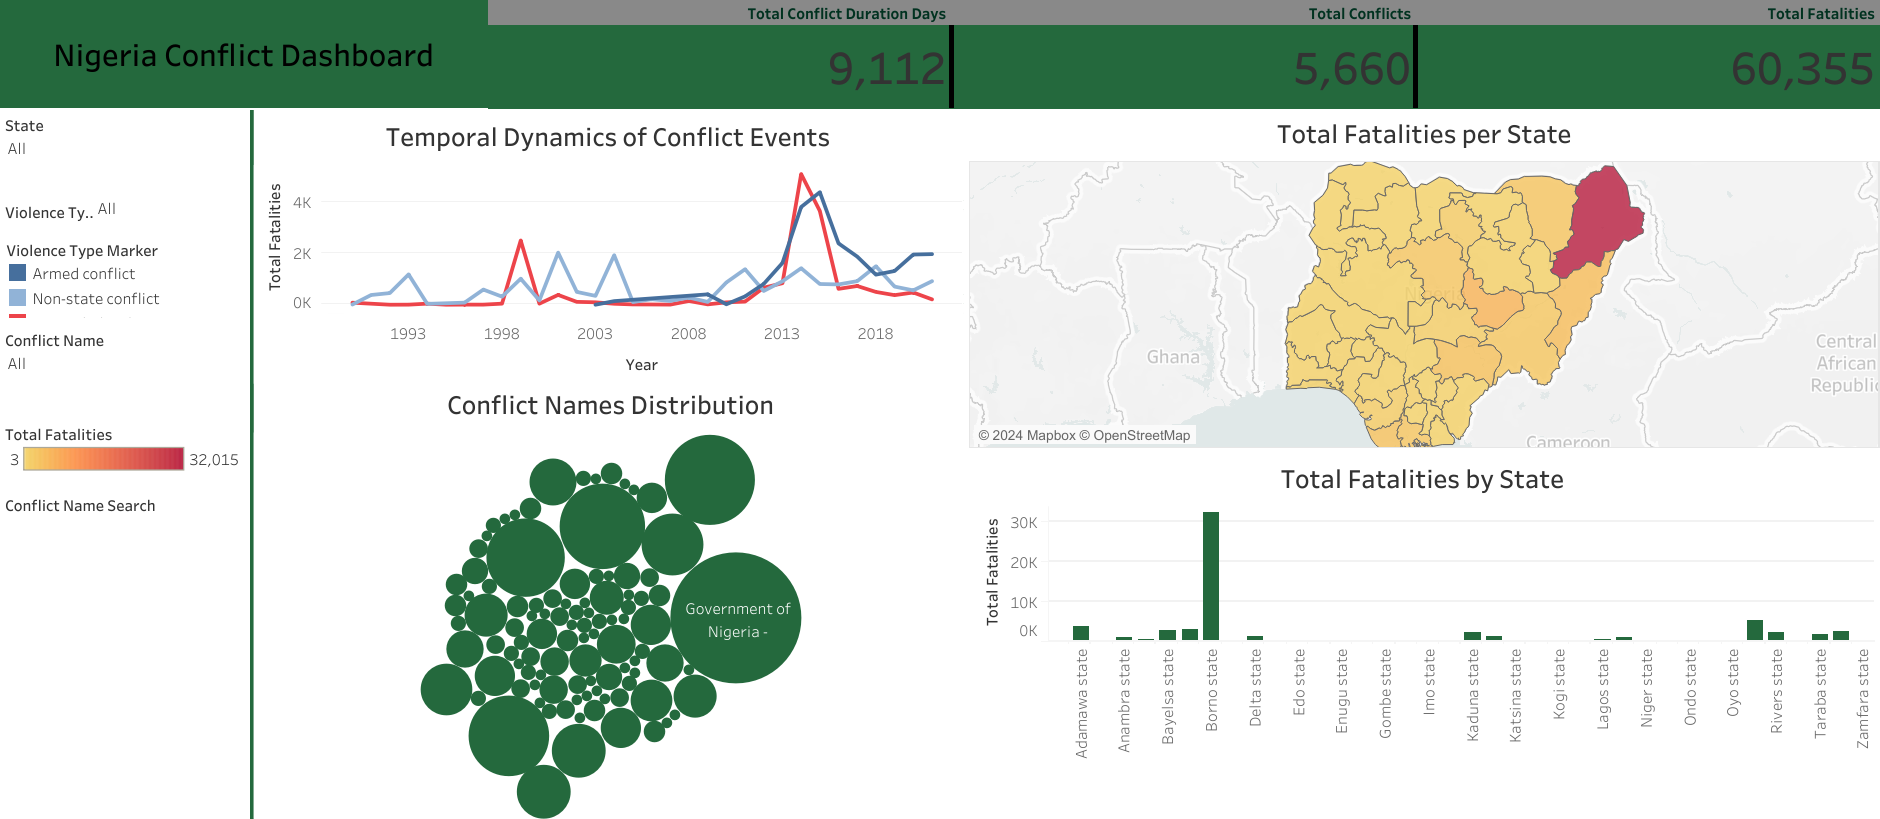

What the dashboard file says about the page in this screenshot:
{"tool":"tableau","page":{"name":"Dashboard 1","canvas":[1000,1000],"units":"permille","ordinal":0},"visuals":[{"type":"text","box":[0,0,258.9,130.6]},{"type":"worksheet","title":"Nationwide Numbers ","mark":"Automatic","box":[258.9,0,740.5,131.7]},{"type":"filter","title":"Map","param":"[federated.1lly02x1bn9fph1c5v9400rj8o3r].[none:state:nk]","box":[0,131.7,132.8,73.5]},{"type":"worksheet","title":"Map","mark":"Automatic","box":[514.8,131.7,484.6,416]},{"type":"blank","box":[132.8,133.9,2.4,869.4]},{"type":"worksheet","title":"Temporal ","mark":"Automatic","rows":["total_fatalities"],"cols":["date_start"],"box":[134.6,135,377.2,332.6]},{"type":"filter","title":"Temporal ","param":"[federated.0ykx1sy1ussmwv13j8j8316c5hea].[none:Calculation_275564063131279360:nk","box":[0,205.3,132.8,67]},{"type":"legend","title":"Temporal ","param":"[federated.0ykx1sy1ussmwv13j8j8316c5hea].[none:Calculation_275564063131279360:nk","box":[0,272.2,132.8,144.9]},{"type":"filter","title":"Temporal ","param":"[federated.0ykx1sy1ussmwv13j8j8316c5hea].[none:conflict_name:nk]","box":[0,417.1,132.8,82.3]},{"type":"worksheet","title":"Bubble Charts","mark":"Circle","box":[134.6,462.1,379.6,535.7]},{"type":"legend","title":"Map","param":"[federated.1lly02x1bn9fph1c5v9400rj8o3r].[sum:total_fatalities:qk]","box":[0,499.4,132.8,65.9]},{"type":"worksheet","title":"Fatalities by state ","mark":"Automatic","rows":["total_fatalities"],"cols":["state"],"box":[516,552.1,479.8,441.3]},{"type":"parameter","param":"[Parameters].[Parameter 1]","box":[0,565.3,132.8,80.1]}]}

Visuals, with their boxes on the dashboard's canvas, which has no fixed pixel size, in thousandths of its width and height (x1, y1, x2, y2). These are canvas units, not pixel positions in the 1880x819 screenshot, which may show the page scaled, cropped or inside an application window:
text: 0,0,259,131
"Nationwide Numbers " worksheet: 259,0,999,132
"Map" filter: 0,132,133,205
"Map" worksheet: 515,132,999,548
blank: 133,134,135,1003
"Temporal " worksheet: 135,135,512,468
"Temporal " filter: 0,205,133,272
"Temporal " legend: 0,272,133,417
"Temporal " filter: 0,417,133,499
"Bubble Charts" worksheet (Circle marks): 135,462,514,998
"Map" legend: 0,499,133,565
"Fatalities by state " worksheet: 516,552,996,993
parameter: 0,565,133,645
